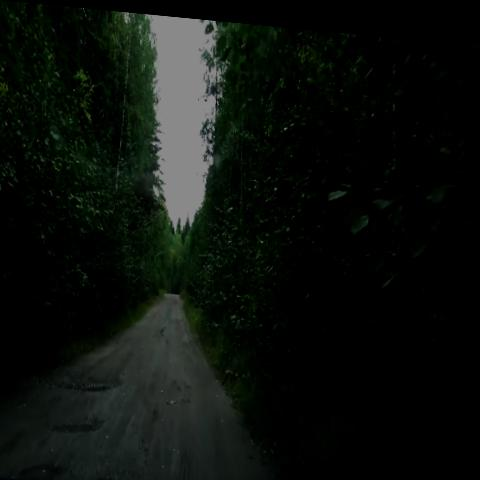pothole: (45, 390, 112, 447), (68, 364, 132, 398), (28, 440, 80, 480)
